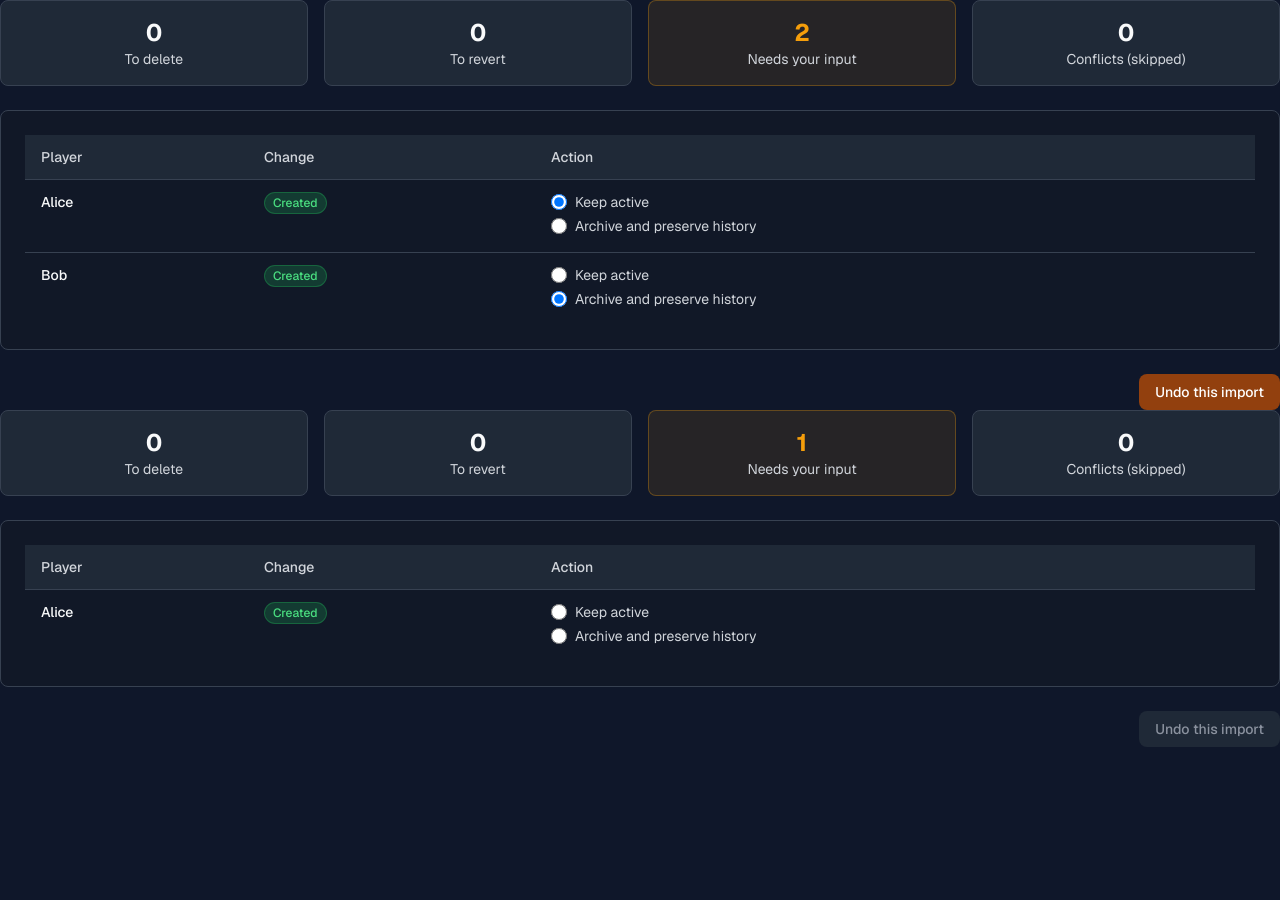
RollbackUndoForm › submits resolution:<changeId> form fields matching the owner's explicit choices, and shows the result summary on success
Click the 3rd radio button labelled "Archive and preserve history" at (559,636), box [551,628,567,644]
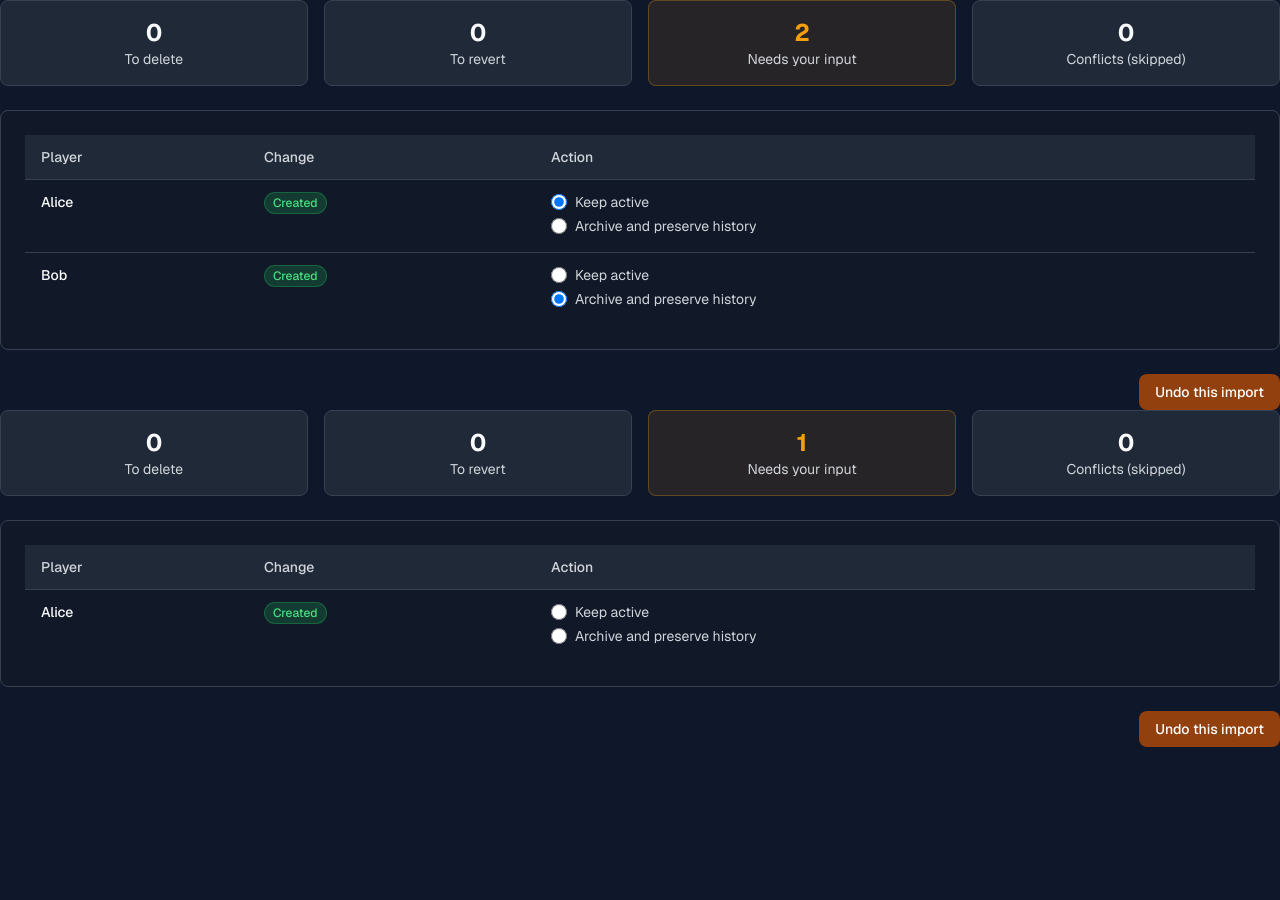
Click the 2nd button "Undo this import" at (1210,729), box [1139,711,1279,747]
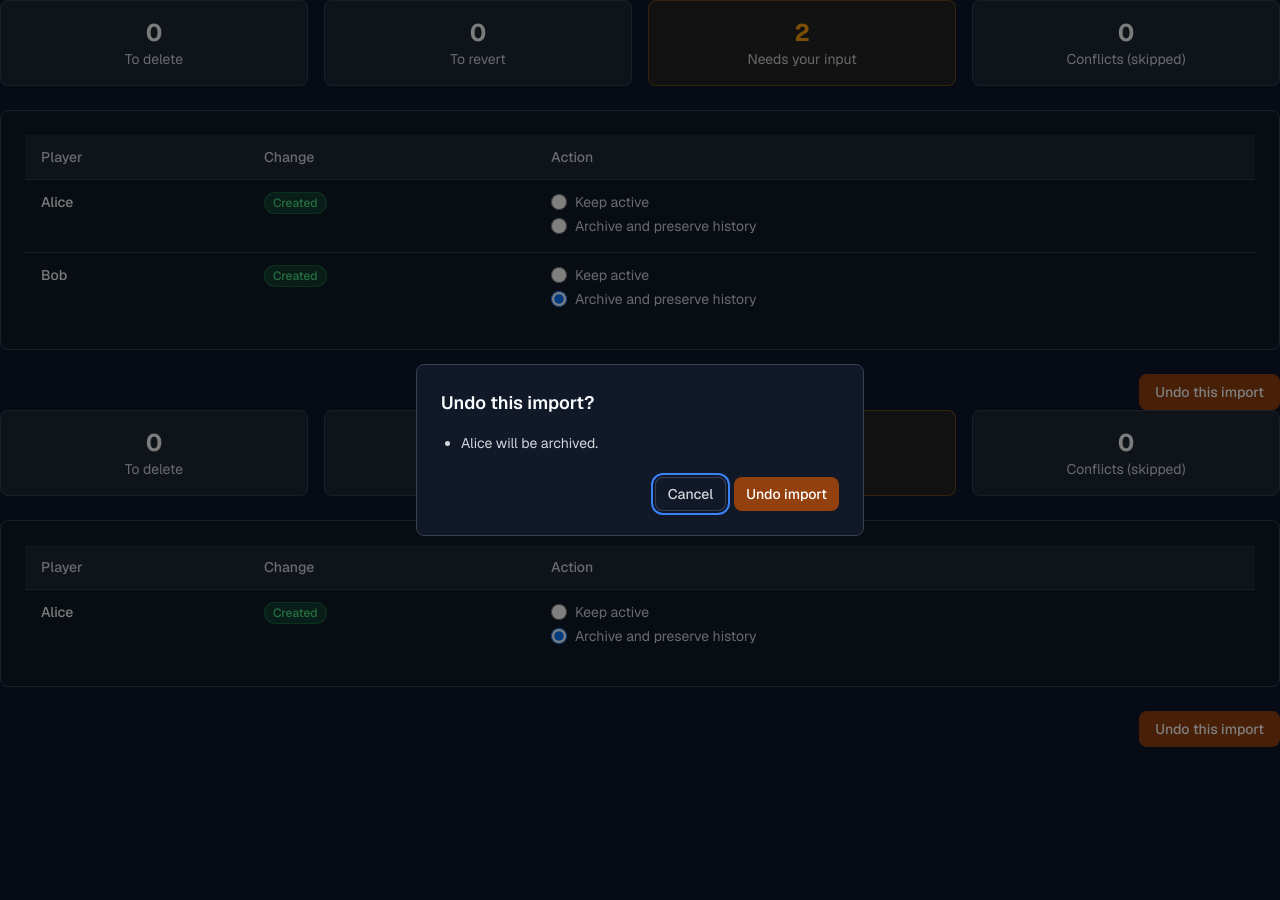
Click the button "Undo import" at (787,494), box [734,477,839,511]
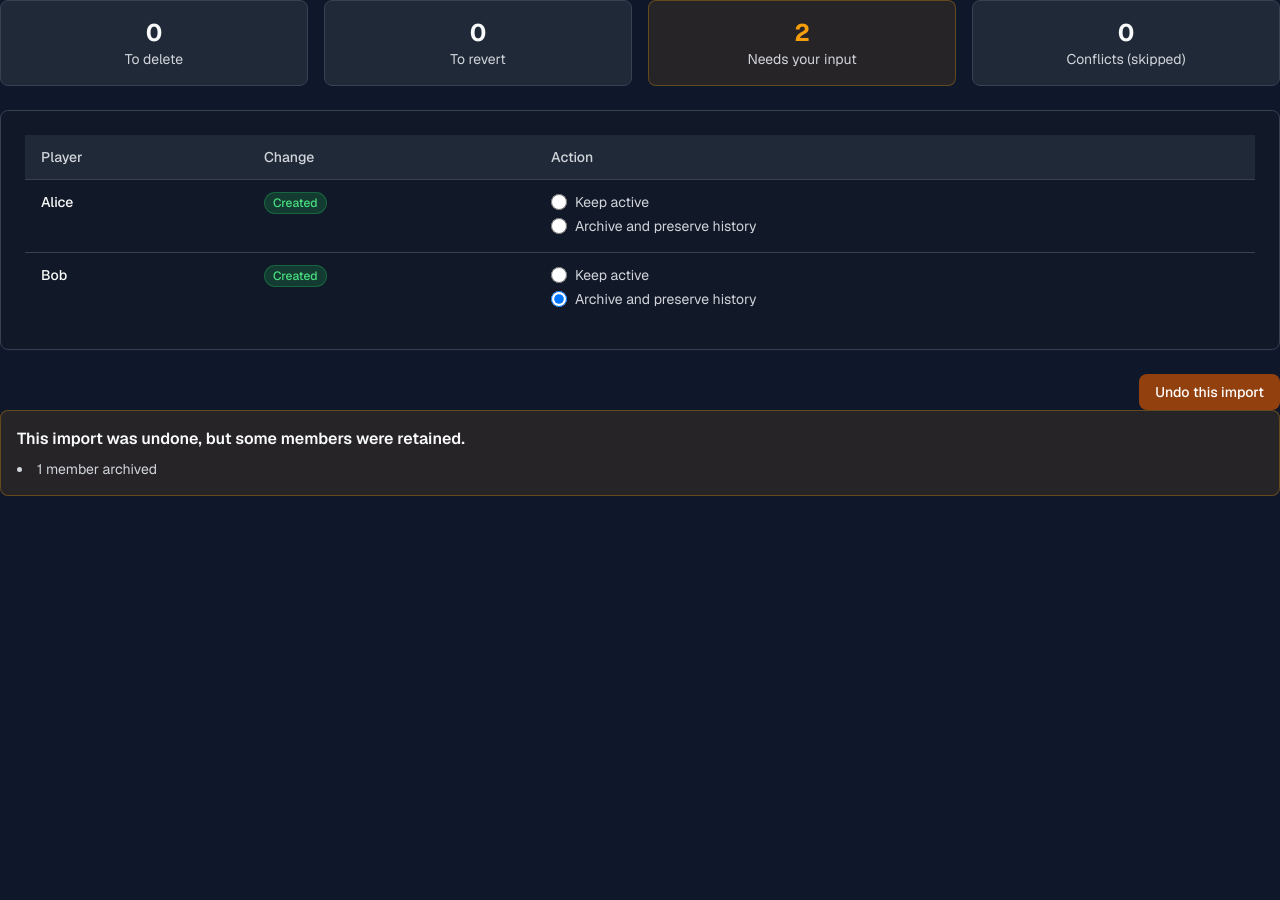
Expected: the text "undone, but some members were retained" is shown, [17,428,465,449]
Expected: the text "1 member archived" is shown, [37,460,157,478]
